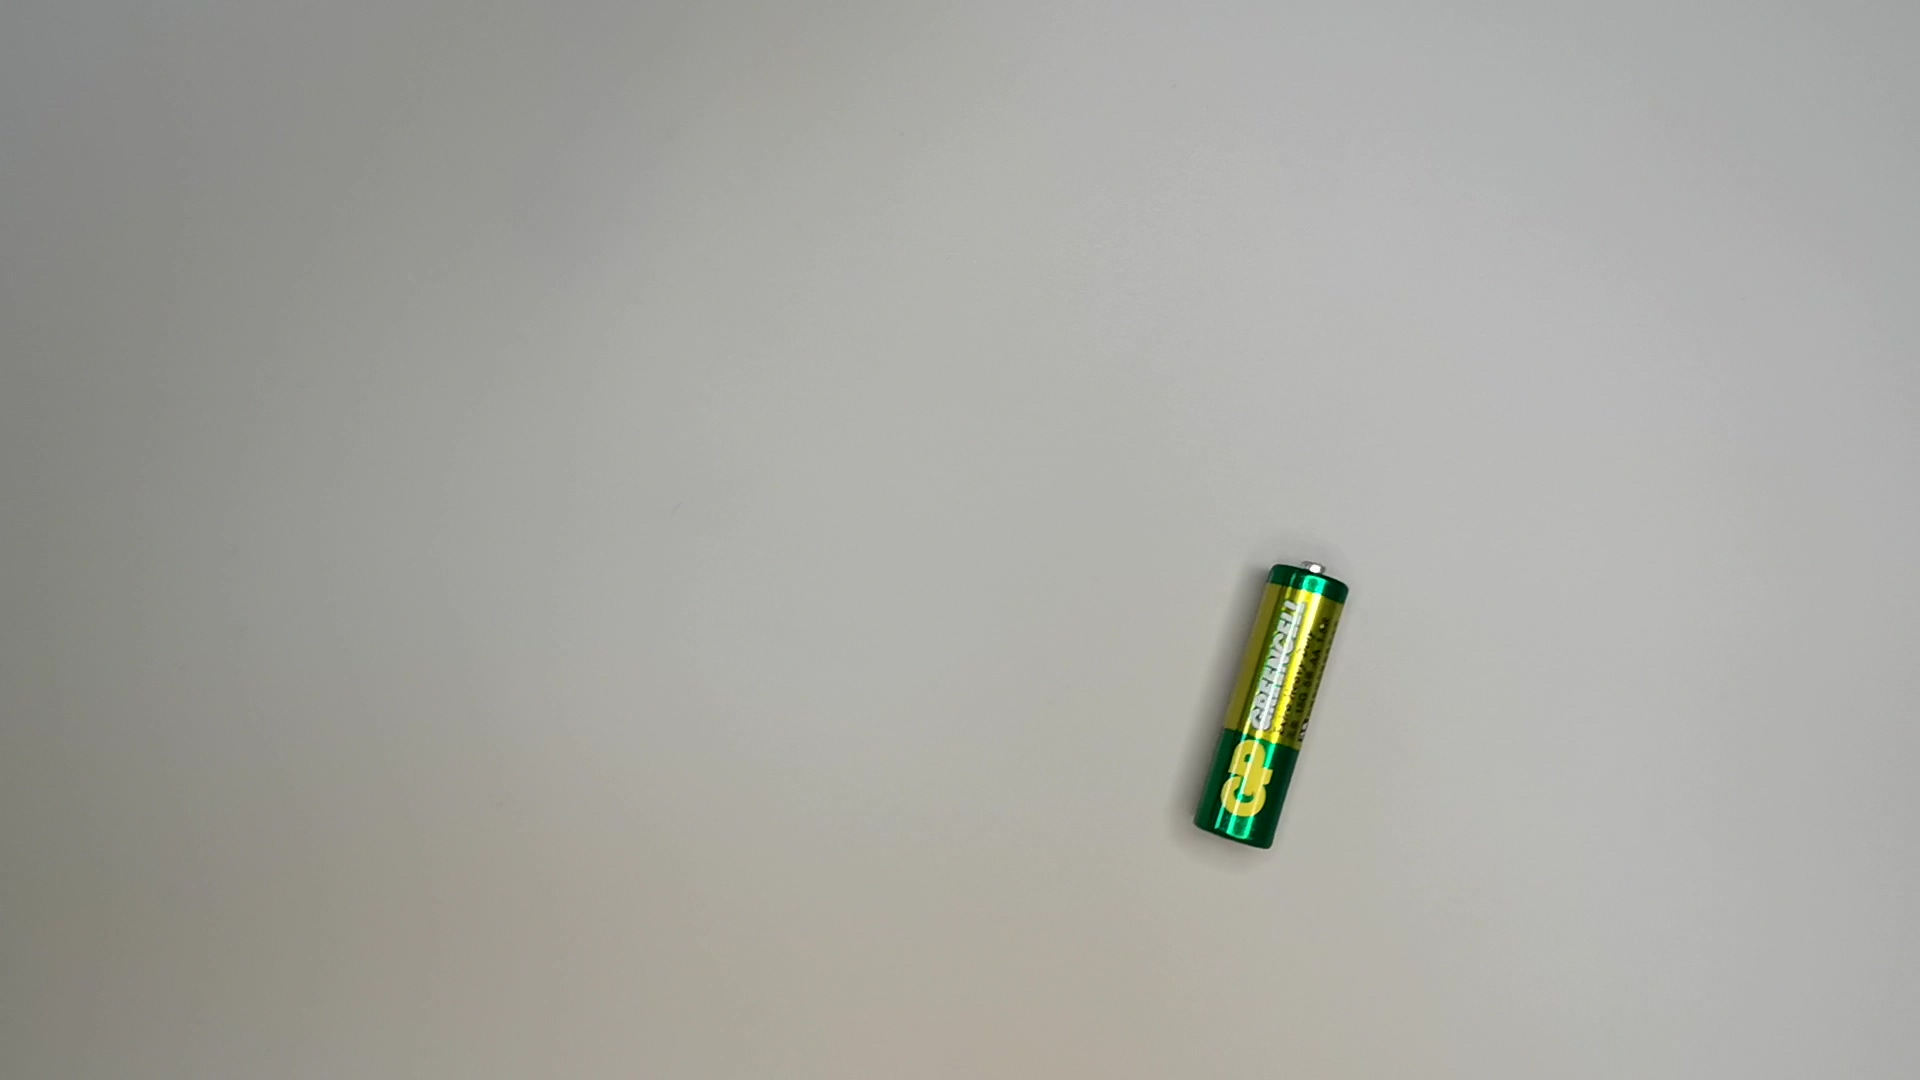battery: (1185, 560, 1356, 853)
